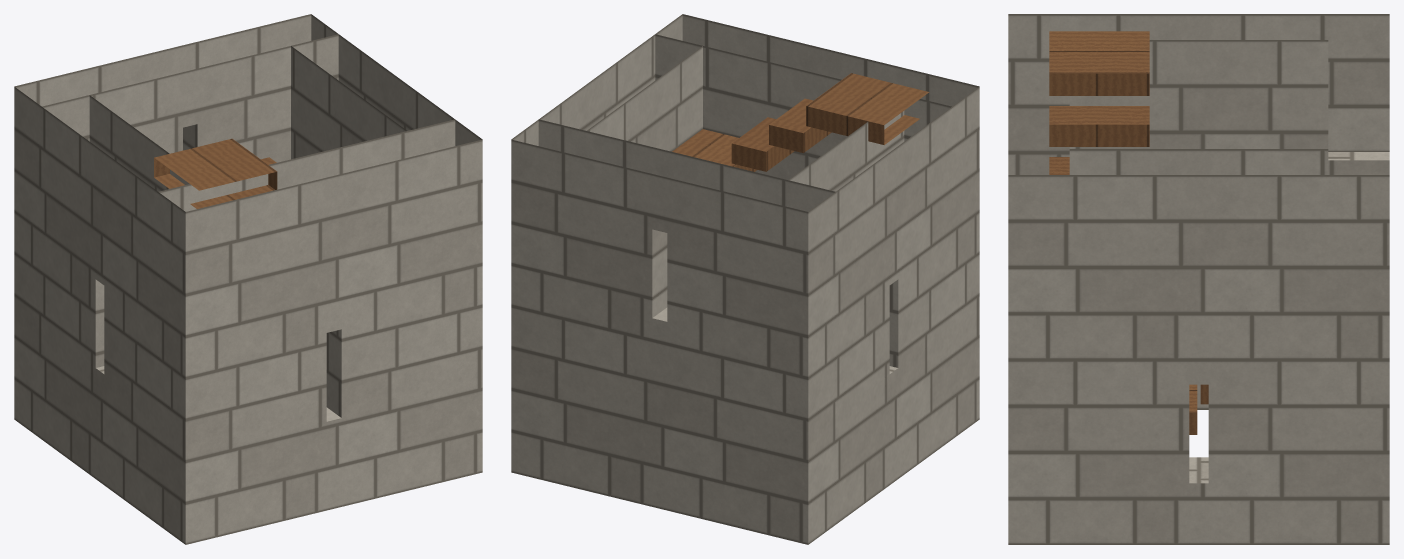
Rendered from Tower_Stair_Window.fbx.
3 renders of one model, left to right at view 1: azimuth 30°, elevation 25°; view 2: azimuth 150°, elevation 25°; view 3: azimuth 270°, elevation 25°, orthographic. The views are drawn at different scales.
Visible parts, largest first — view 1: Tower_Stair_Window; view 2: Tower_Stair_Window; view 3: Tower_Stair_Window.
Boxes of the visible parts, x1,y1,x2,y2 form: Tower_Stair_Window: (14,14,482,544); Tower_Stair_Window: (511,14,979,544); Tower_Stair_Window: (1008,14,1389,544).
Bounding box in the file's own units: 2.8 × 3 × 2.8.
2 materials, 2 textured.
